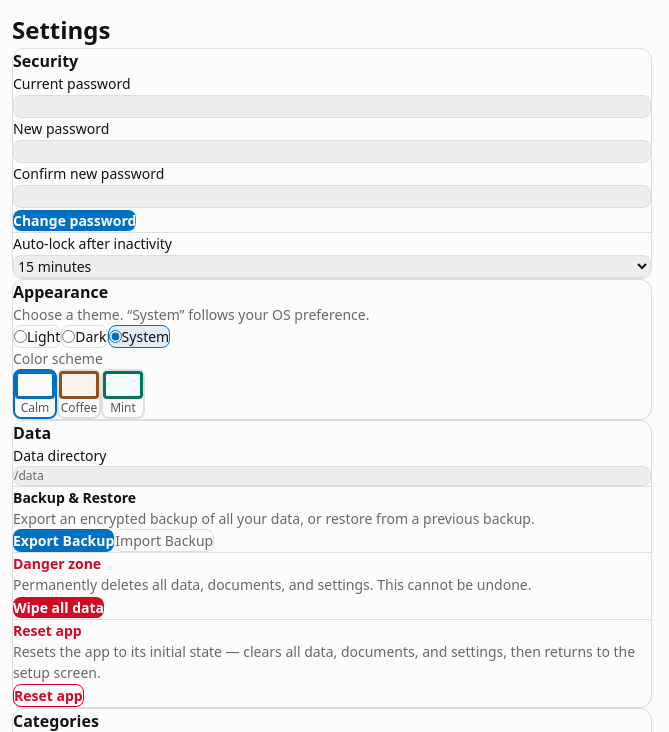
Test: SettingsPage › shows error when new password is too short
Type "oldpass123" into the password field labelled "Current password".
click(332, 106); type("oldpass123")  # box [13,95,651,118]
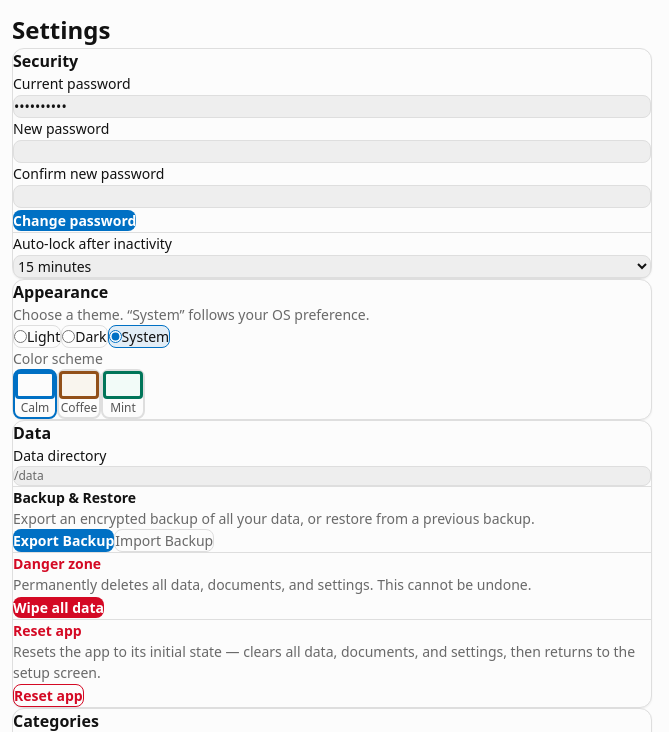
Type "short" into the password field labelled "New password".
click(332, 152); type("short")  # box [13,140,651,163]
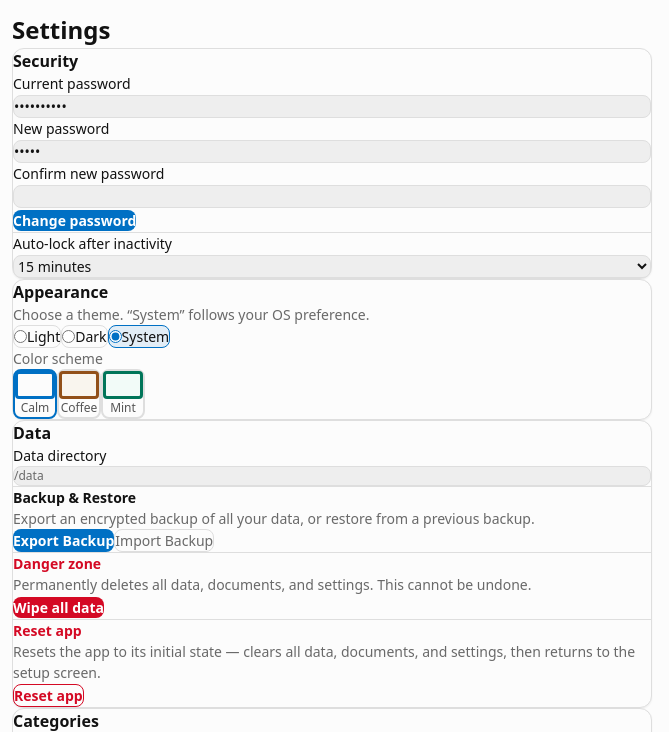
Type "short" into the password field labelled "Confirm new password".
click(332, 196); type("short")  # box [13,185,651,208]
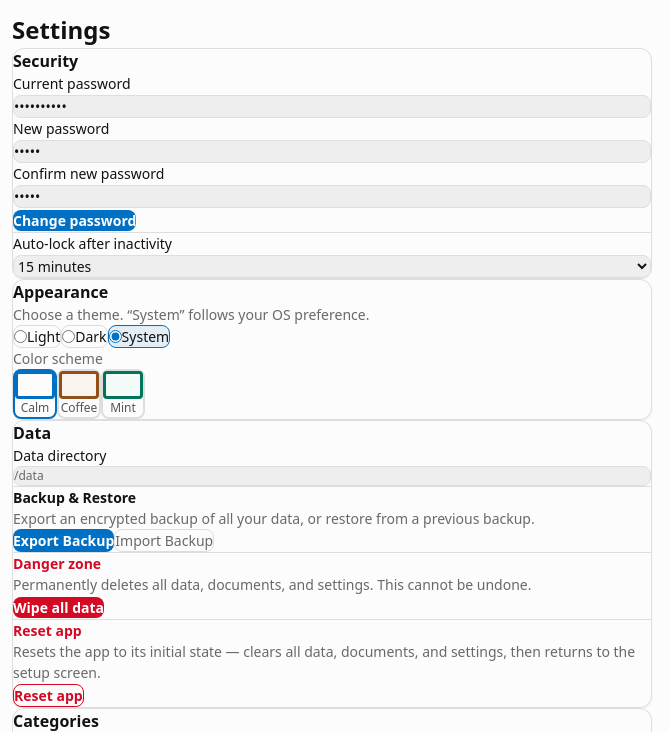
Click the button "Change password".
click(75, 220)  # box [13,210,136,231]
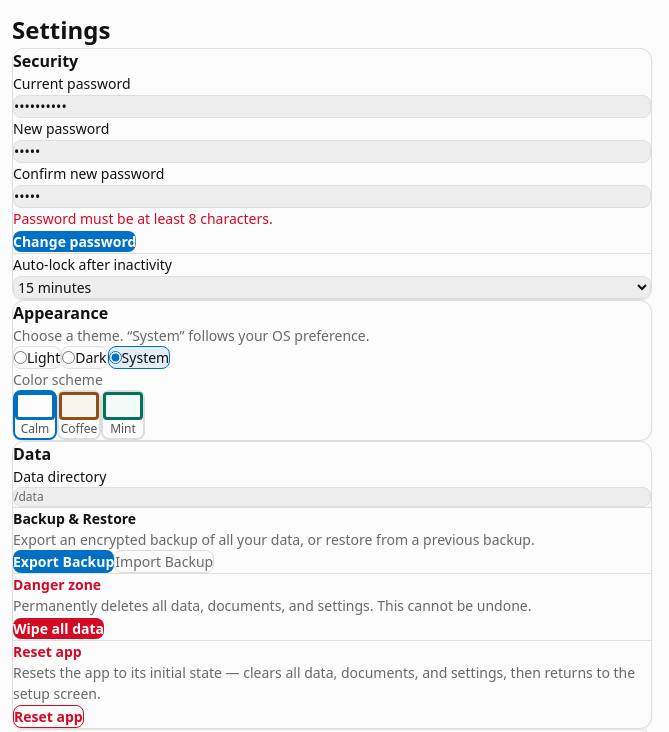
Expected: the text "Password must be at least 8 characters." is shown, [13,209,273,228]
